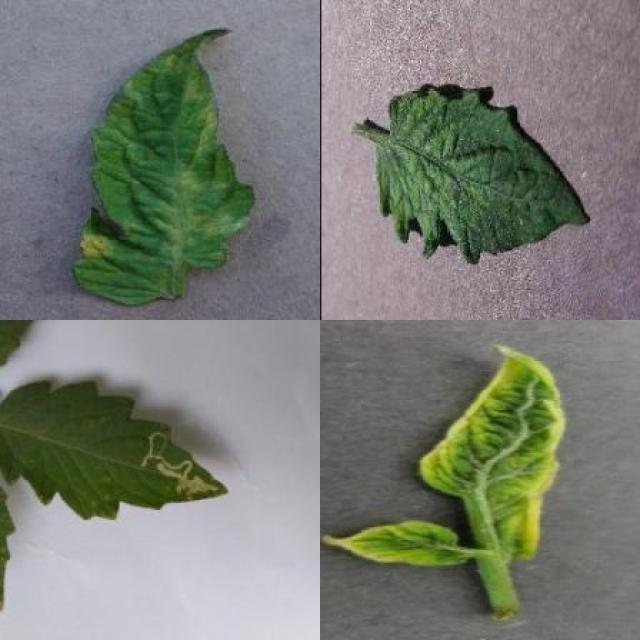Leaf Miner: (2, 380, 232, 523)
Leaf Mold: (73, 27, 258, 303)
Mosaic Virus: (375, 82, 592, 265)
Yellow Leaf Curl Virus: (423, 340, 566, 560), (323, 515, 468, 569)
